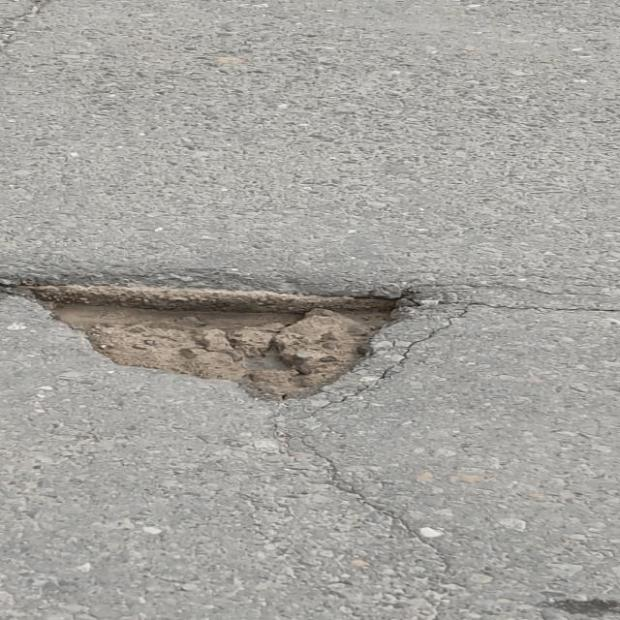lubang: (0, 279, 420, 398)
